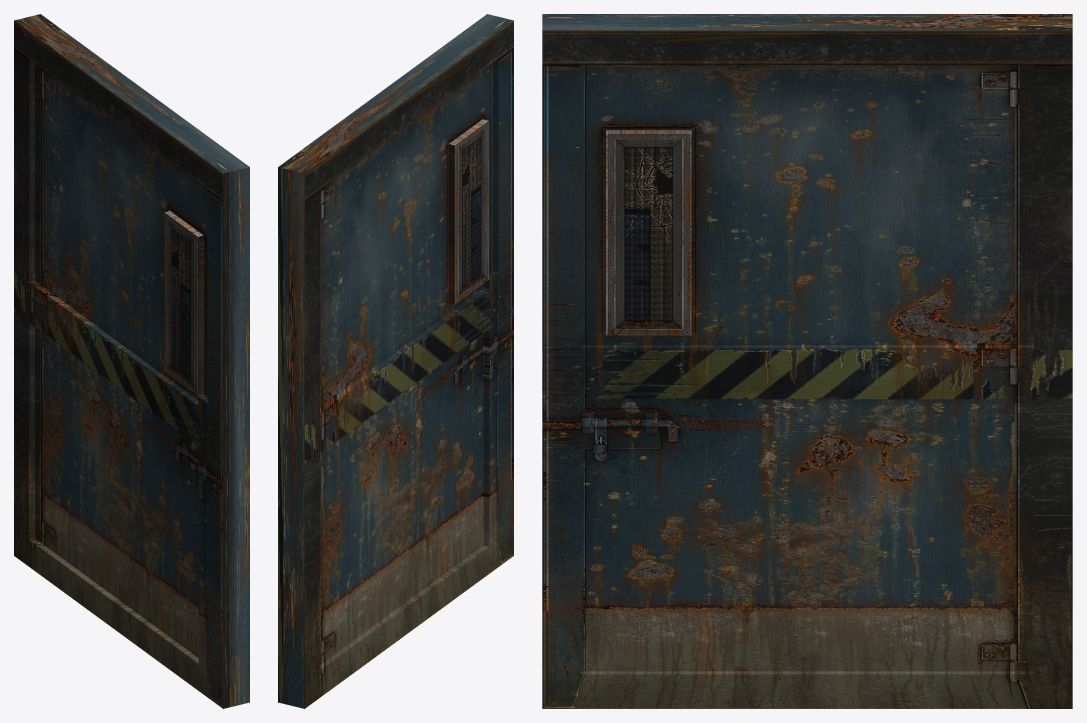
Rendered from door.fbx.
3 renders of one model, left to right at view 1: azimuth 30°, elevation 25°; view 2: azimuth 150°, elevation 25°; view 3: azimuth 270°, elevation 25°, orthographic. The views are drawn at different scales.
Parts seen in each view (by area): view 1: Cube; view 2: Cube; view 3: Cube.
Part boxes in pixels (x1,y1,x2,y2): Cube: [14, 14, 249, 708]; Cube: [278, 14, 513, 708]; Cube: [542, 14, 1072, 708].
Bounding box in the file's own units: 0.1469 × 2.82 × 2.
Materials: 1 (1 with a texture image).
